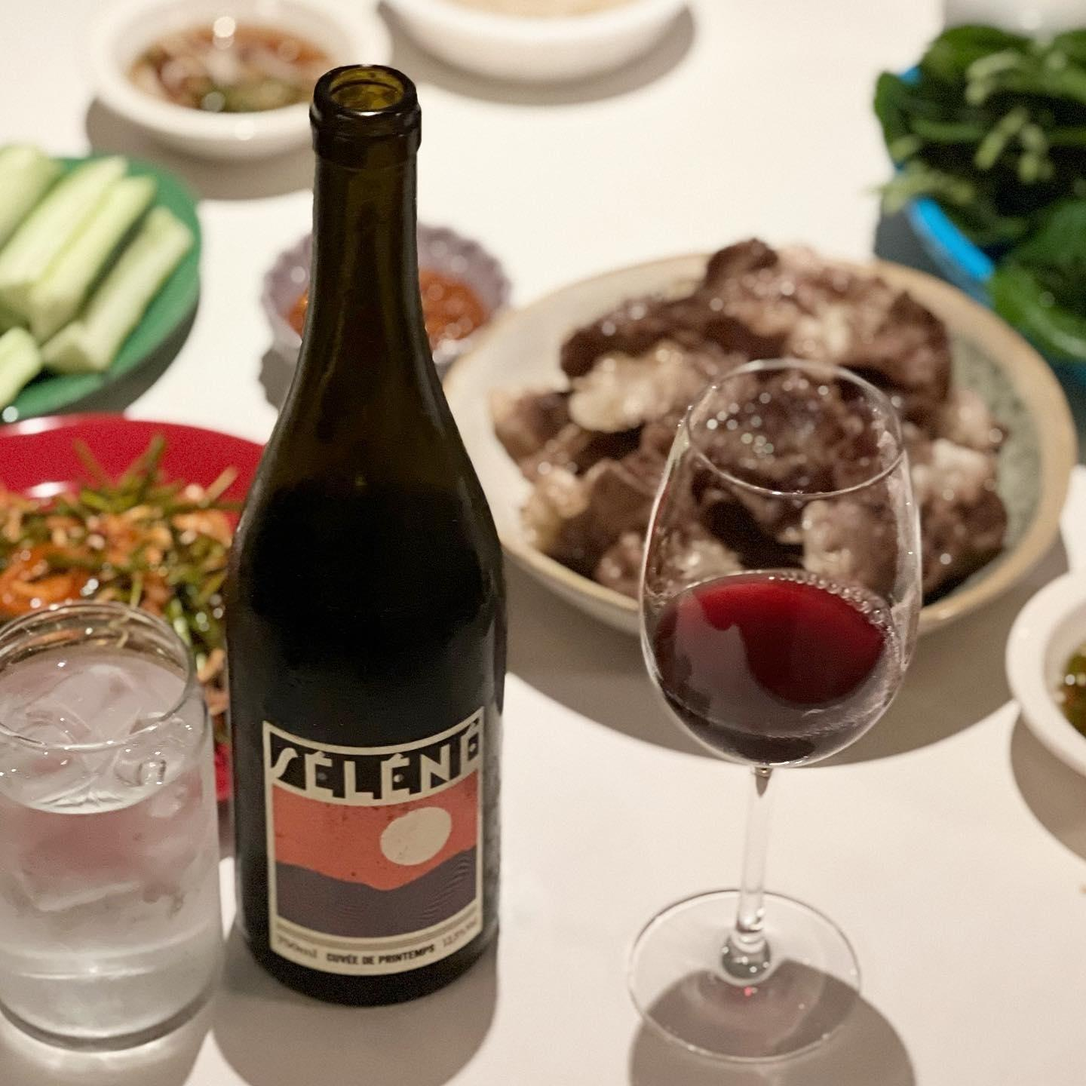bottle-glass: (215, 57, 526, 1001)
glass-normal: (1, 584, 210, 1086)
glass-wine: (604, 351, 932, 1079)
